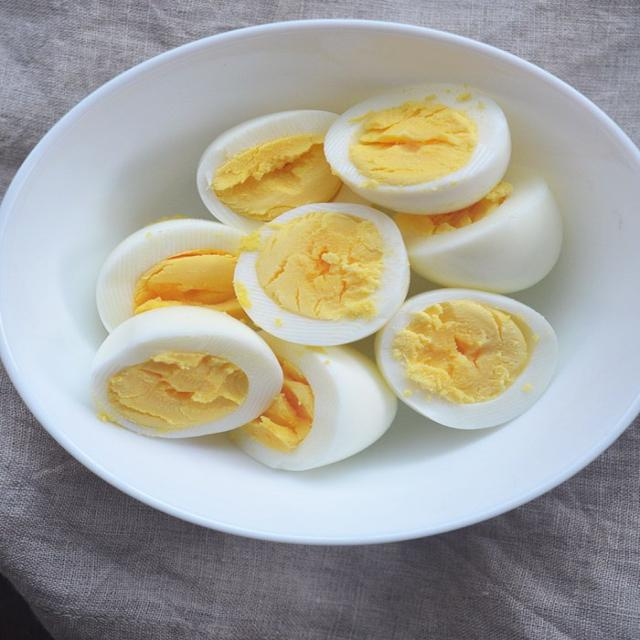egg boiled: (90, 306, 282, 438), (376, 289, 557, 429), (235, 203, 409, 345), (325, 84, 511, 214), (230, 333, 396, 470), (395, 167, 562, 292), (197, 110, 341, 232), (96, 219, 245, 331)
